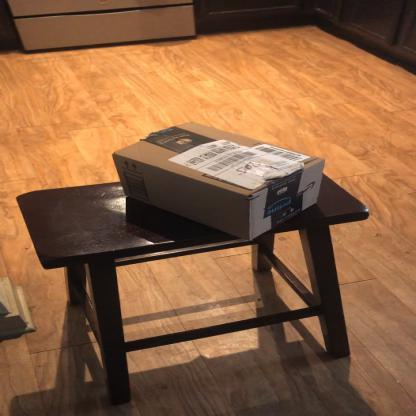package: (108, 121, 334, 245)
